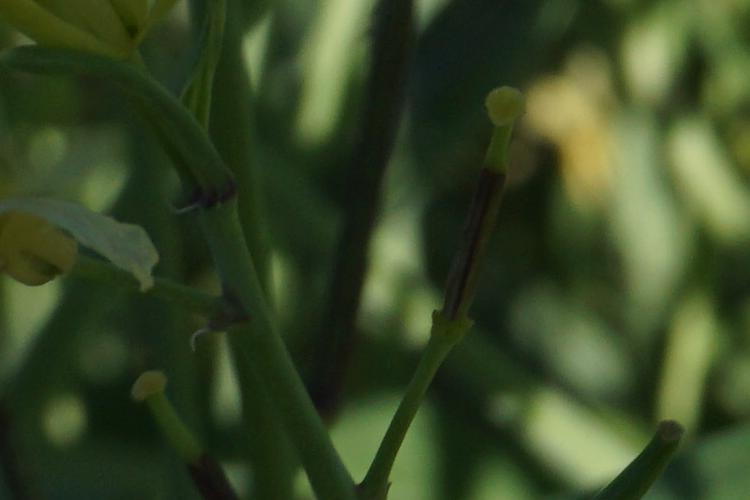pod: (440, 83, 554, 351), (127, 369, 244, 493), (576, 406, 688, 493)
